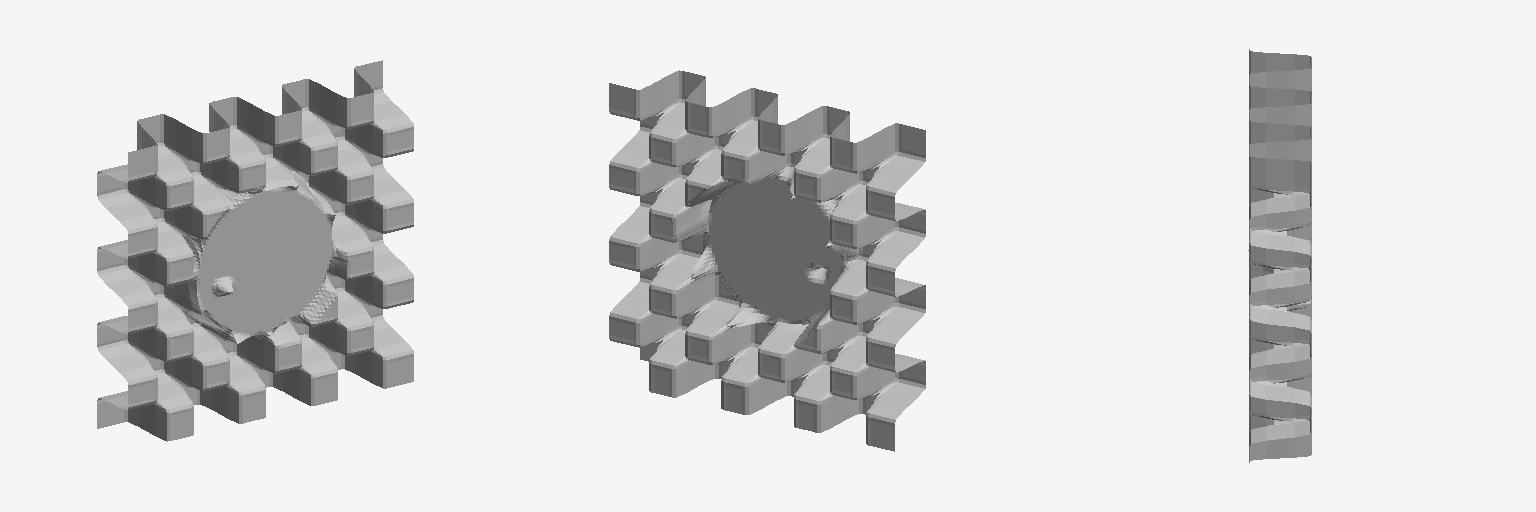
The model's file is heightmesh.obj.
The picture shows the model from 3 angles: view 1: azimuth 30°, elevation 25°; view 2: azimuth 150°, elevation 25°; view 3: azimuth 270°, elevation 25°; orthographic projection.
Size of the model in its own units: 1 by 1 by 0.1931.